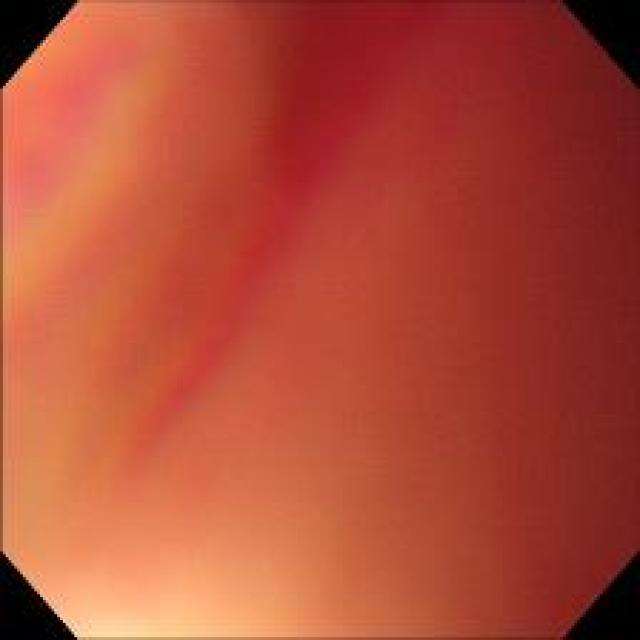color misalignment: (4, 5, 625, 622), (166, 4, 452, 324), (5, 54, 158, 305), (41, 341, 258, 504)
